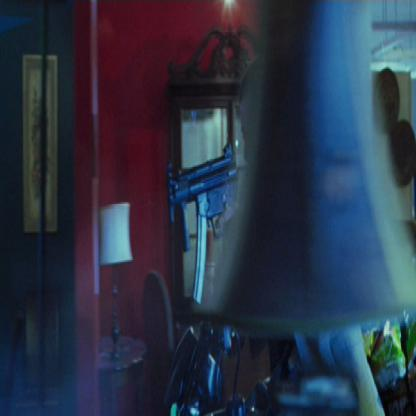Guns: (163, 140, 241, 305)
